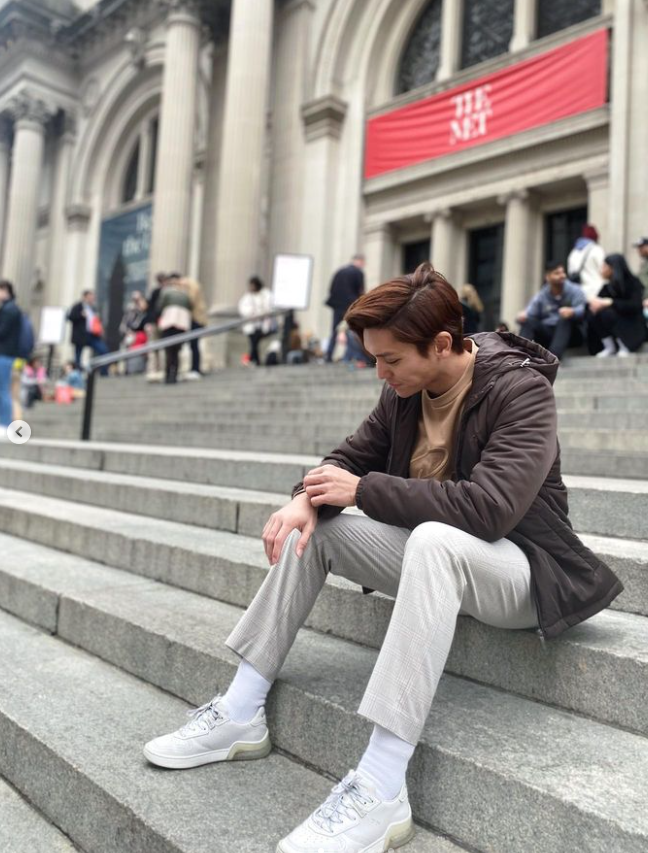sit: (182, 277, 590, 853)
